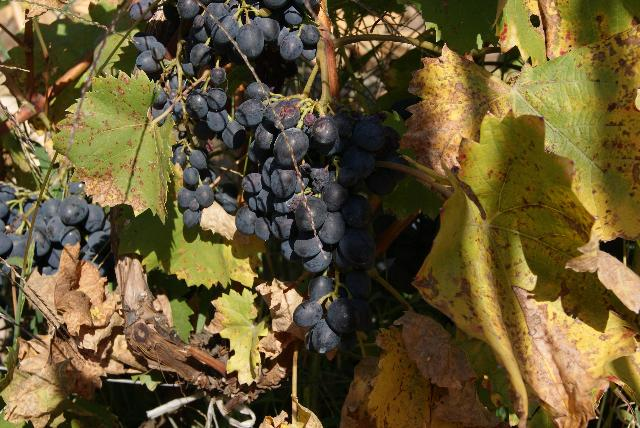grapes: (235, 99, 412, 354)
